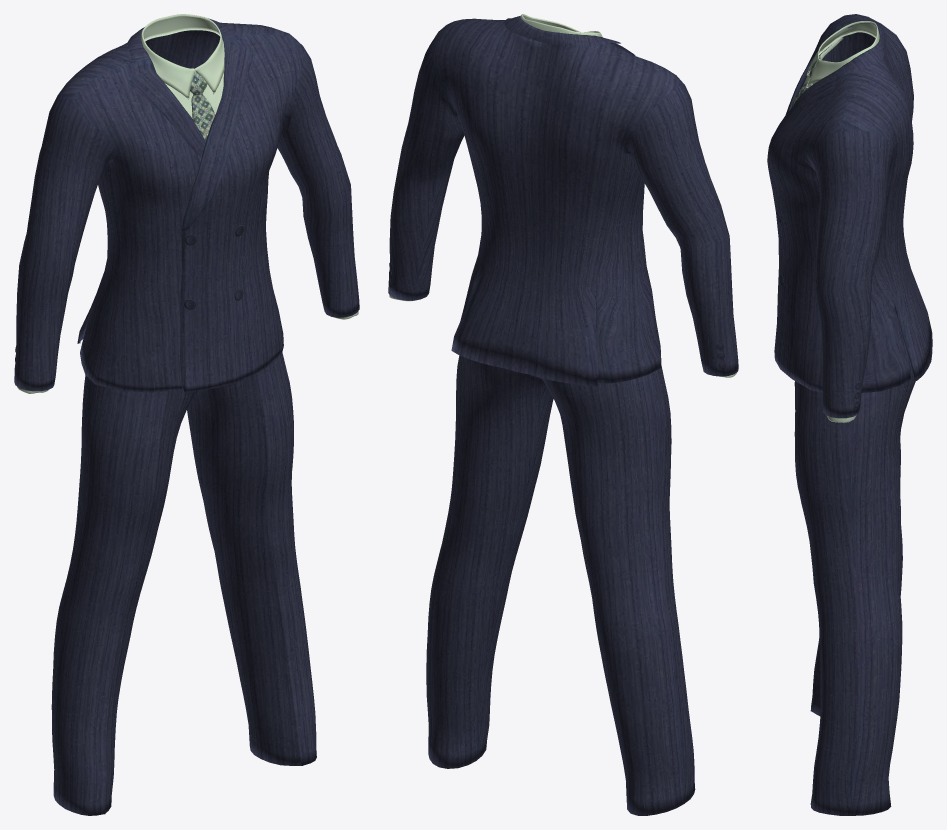
The model's file is toigo-male-double-breasted-suit.glb.
3 renders of one model, left to right at view 1: azimuth 30°, elevation 25°; view 2: azimuth 150°, elevation 25°; view 3: azimuth 270°, elevation 25°, orthographic. The views are drawn at different scales.
Visible parts, largest first — view 1: Human.toigo_male_double-breasted_suit; view 2: Human.toigo_male_double-breasted_suit; view 3: Human.toigo_male_double-breasted_suit.
Part boxes in pixels (box(x1,y1,x2,y2)): Human.toigo_male_double-breasted_suit: box(14, 14, 359, 815); Human.toigo_male_double-breasted_suit: box(388, 14, 738, 815); Human.toigo_male_double-breasted_suit: box(767, 14, 932, 815).
Bounding box in the file's own units: 0.7317 × 1.55 × 0.318.
1 material, 1 textured.
